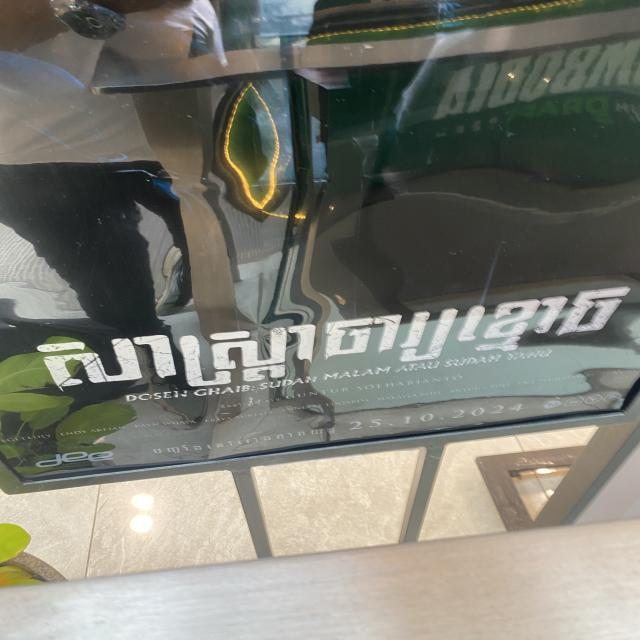679: (345, 399, 526, 434)
Yolov11_80vkh: (21, 279, 636, 404), (150, 424, 337, 458)
